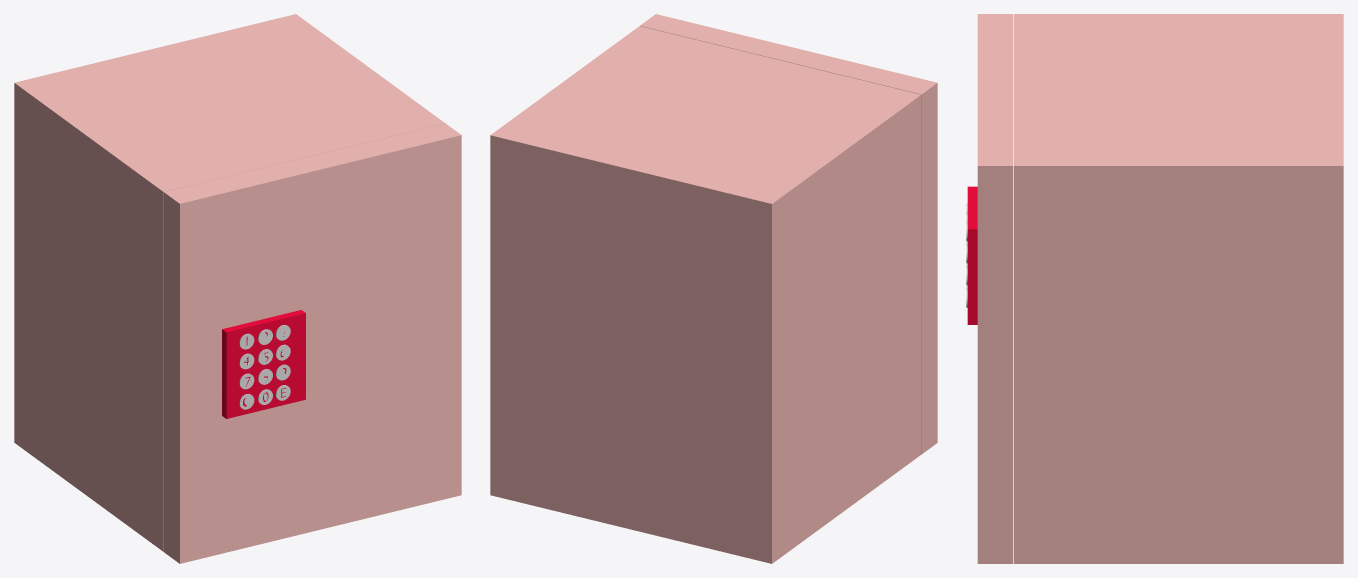
Rendered from case2 (1).fbx.
3 views of the same model, side by side, from view 1: azimuth 30°, elevation 25°; view 2: azimuth 150°, elevation 25°; view 3: azimuth 270°, elevation 25° (orthographic). The views are drawn at different scales.
Visible parts, largest first — view 1: Cube.001, Cube, Cube.002; view 2: Cube, Cube.001; view 3: Cube, Cube.001, Cube.002.
Part boxes in pixels (bbox=[...]): Cube.001: bbox=[164, 123, 461, 563]; Cube: bbox=[14, 14, 444, 551]; Cube.002: bbox=[222, 310, 305, 418]; Cube: bbox=[490, 26, 921, 563]; Cube.001: bbox=[640, 14, 937, 454]; Cube: bbox=[1013, 14, 1343, 563]; Cube.001: bbox=[977, 14, 1012, 563]; Cube.002: bbox=[967, 186, 977, 324].
Bounding box in the file's own units: 185 × 225 × 194.
